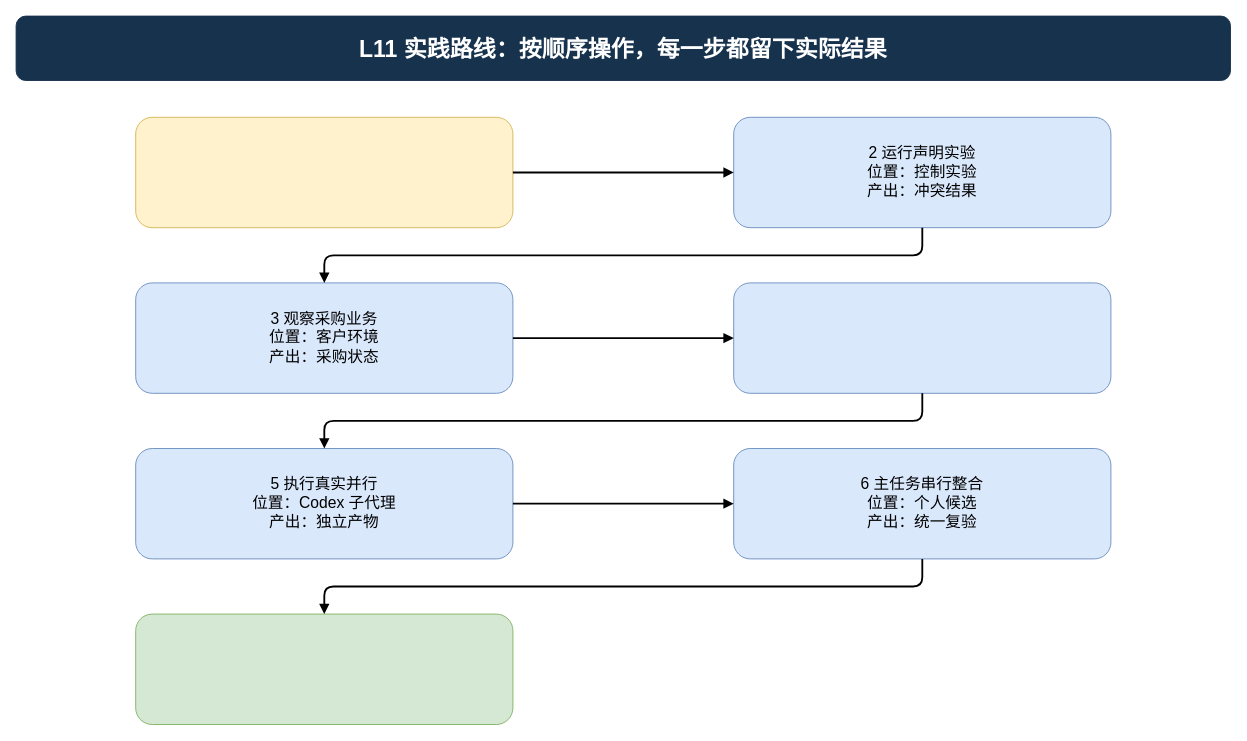
This 1247x741 diagram has some shape labels left out. Each missing label, with the centre of its shape:
"1 准备项目与判断 位置：控制仓库 产出：首次判断" belongs at (324,172).
"4 固定两份子任务 位置：个人候选 产出：任务合同" belongs at (922,337).
"7 复盘并迁移 位置：你 产出：协作结论" belongs at (324,668).
